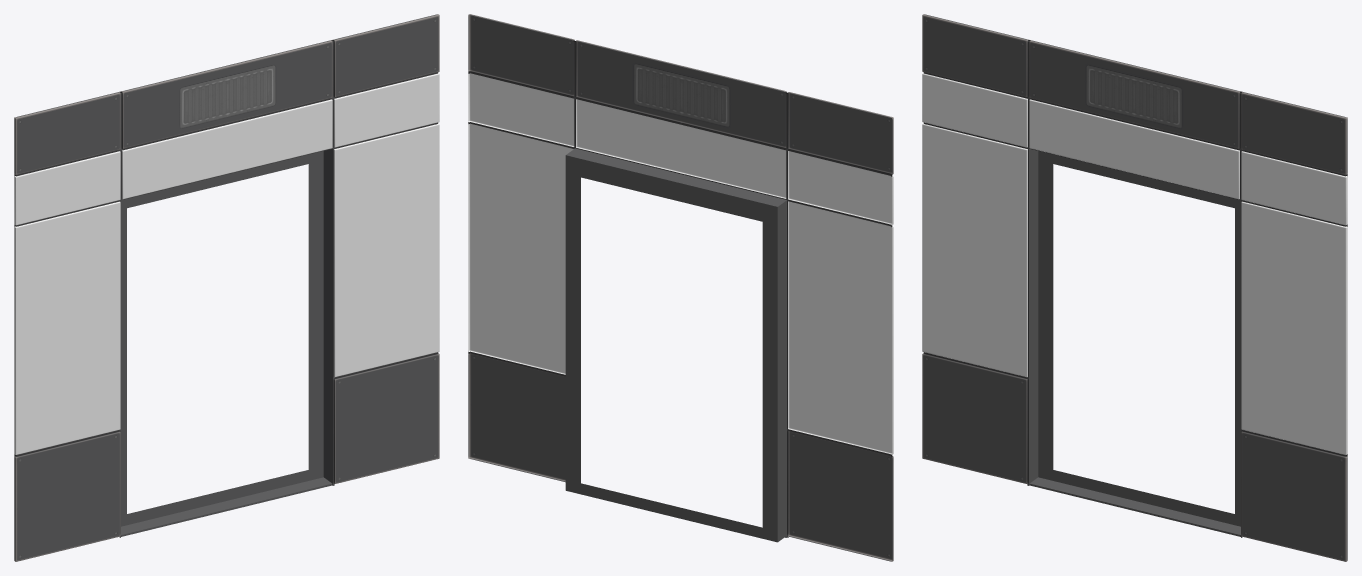
File: MWall12-2-Door1.FBX
The picture shows the model from 3 angles, left to right: view 1: azimuth 30°, elevation 25°; view 2: azimuth 150°, elevation 25°; view 3: azimuth 330°, elevation 25°; orthographic projection.
Parts seen in each view (by area): view 1: MWall12-2-Door1; view 2: MWall12-2-Door1; view 3: MWall12-2-Door1.
Part boxes in pixels (left/top/right/bottom): MWall12-2-Door1: left=14, top=14, right=439, bottom=561; MWall12-2-Door1: left=468, top=14, right=893, bottom=561; MWall12-2-Door1: left=922, top=14, right=1347, bottom=561.
Size of what is drawn, in the model's own units: 3.5 by 3.51 by 0.1437.
